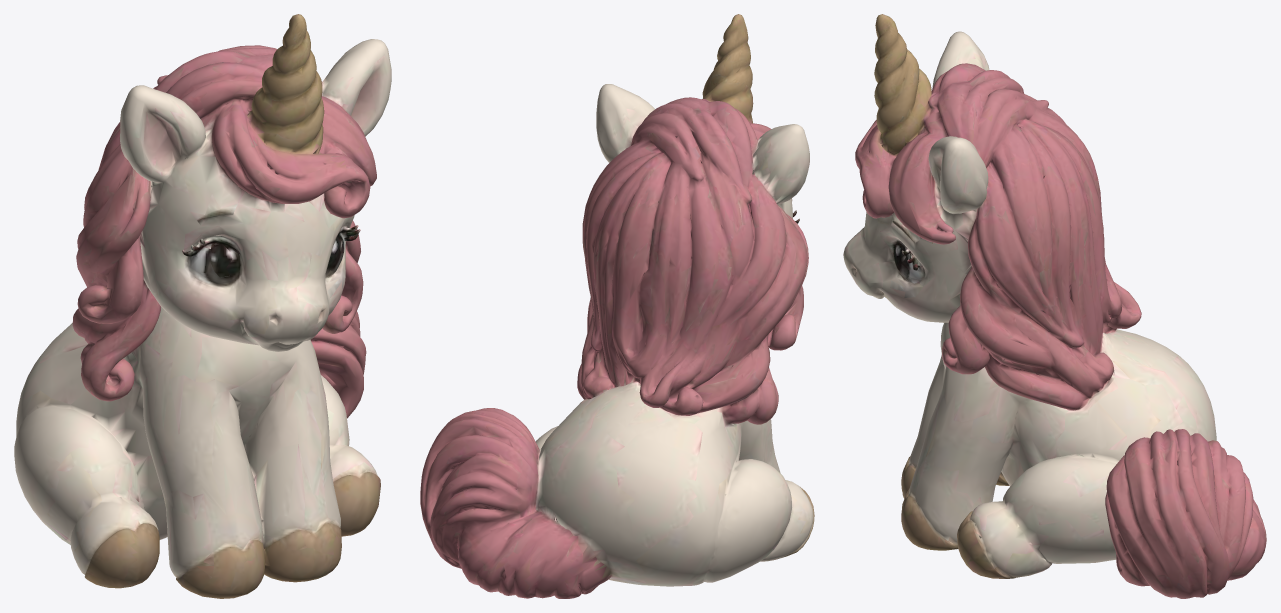
3 views of the same model, side by side, from view 1: azimuth 30°, elevation 25°; view 2: azimuth 150°, elevation 25°; view 3: azimuth 270°, elevation 25° (orthographic). The views are drawn at different scales.
Size of the model in its own units: 1.28 by 1.9 by 1.43.
Materials: 1 (1 with a texture image).
